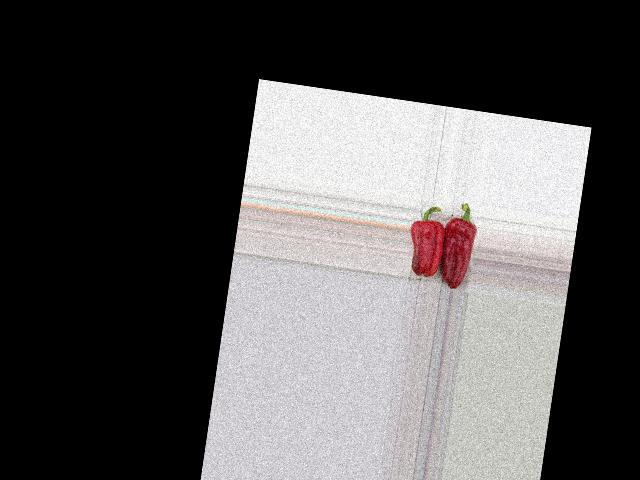bell_pepper: (435, 197, 480, 291)
